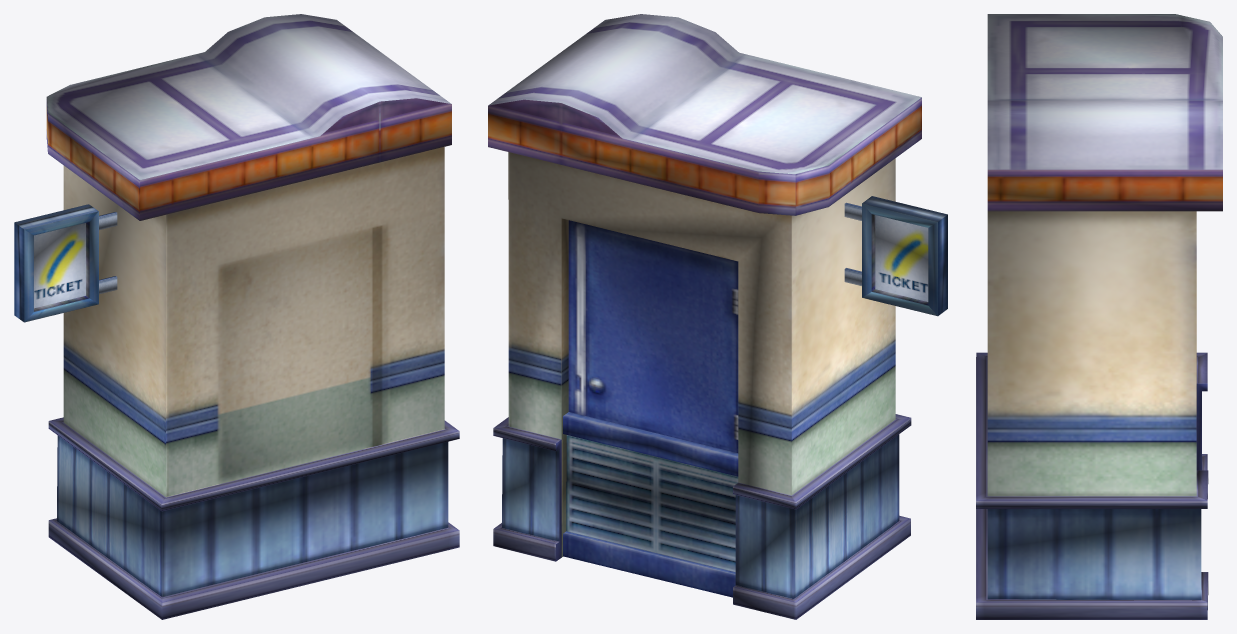
Rendered from s_SEticket02.glb.
3 renders of one model, left to right at view 1: azimuth 30°, elevation 25°; view 2: azimuth 150°, elevation 25°; view 3: azimuth 270°, elevation 25°, orthographic. The views are drawn at different scales.
Visible parts, largest first — view 1: s_SEticket02; view 2: s_SEticket02; view 3: s_SEticket02.
Part boxes in pixels (x1,y1,x2,y2): s_SEticket02: (14,14,459,619); s_SEticket02: (488,14,947,619); s_SEticket02: (976,14,1222,619).
Bounding box in the file's own units: 2.17 × 2.48 × 1.18.
1 material, 1 textured.
